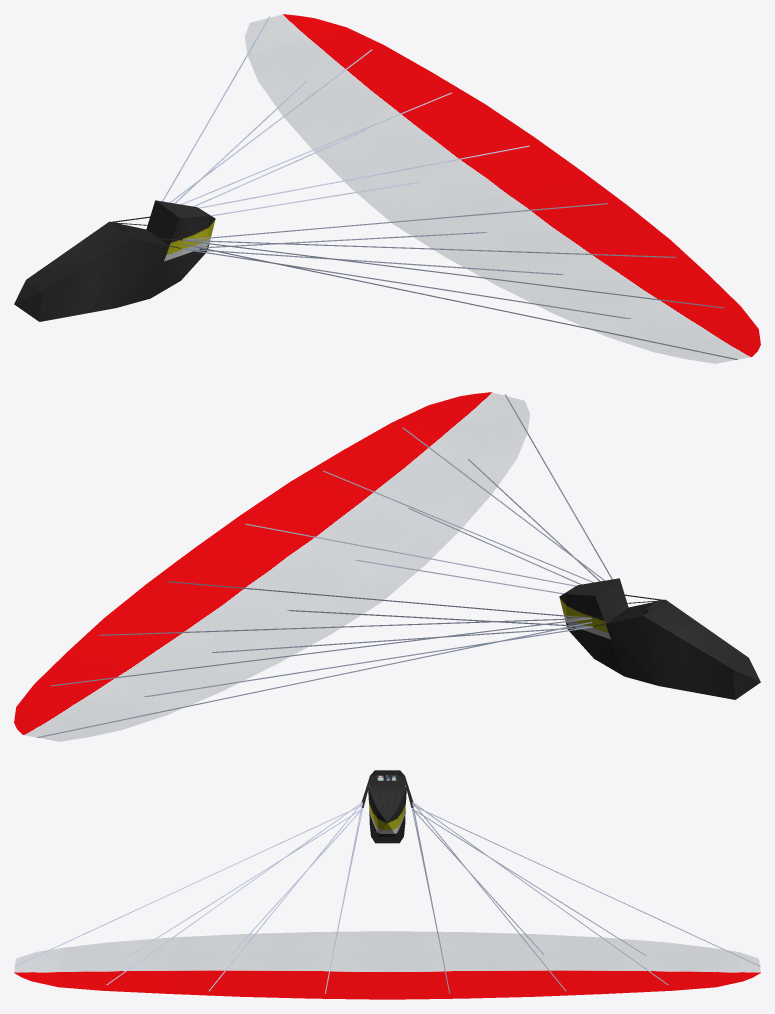
File: paraglider-red-launch-cbj_LOD02.gltf
3 renders of one model, top to bottom at view 1: azimuth 30°, elevation 25°; view 2: azimuth 150°, elevation 25°; view 3: azimuth 270°, elevation 25°, orthographic. The views are drawn at different scales.
Visible parts, largest first — view 1: harness_plus02; view 2: harness_plus02; view 3: harness_plus02.
Boxes of the visible parts, x1,y1,x2,y2 form: harness_plus02: [14, 14, 760, 363]; harness_plus02: [14, 392, 760, 741]; harness_plus02: [14, 770, 760, 999].
Bounding box in the file's own units: 7.76 × 1.07 × 11.07.
